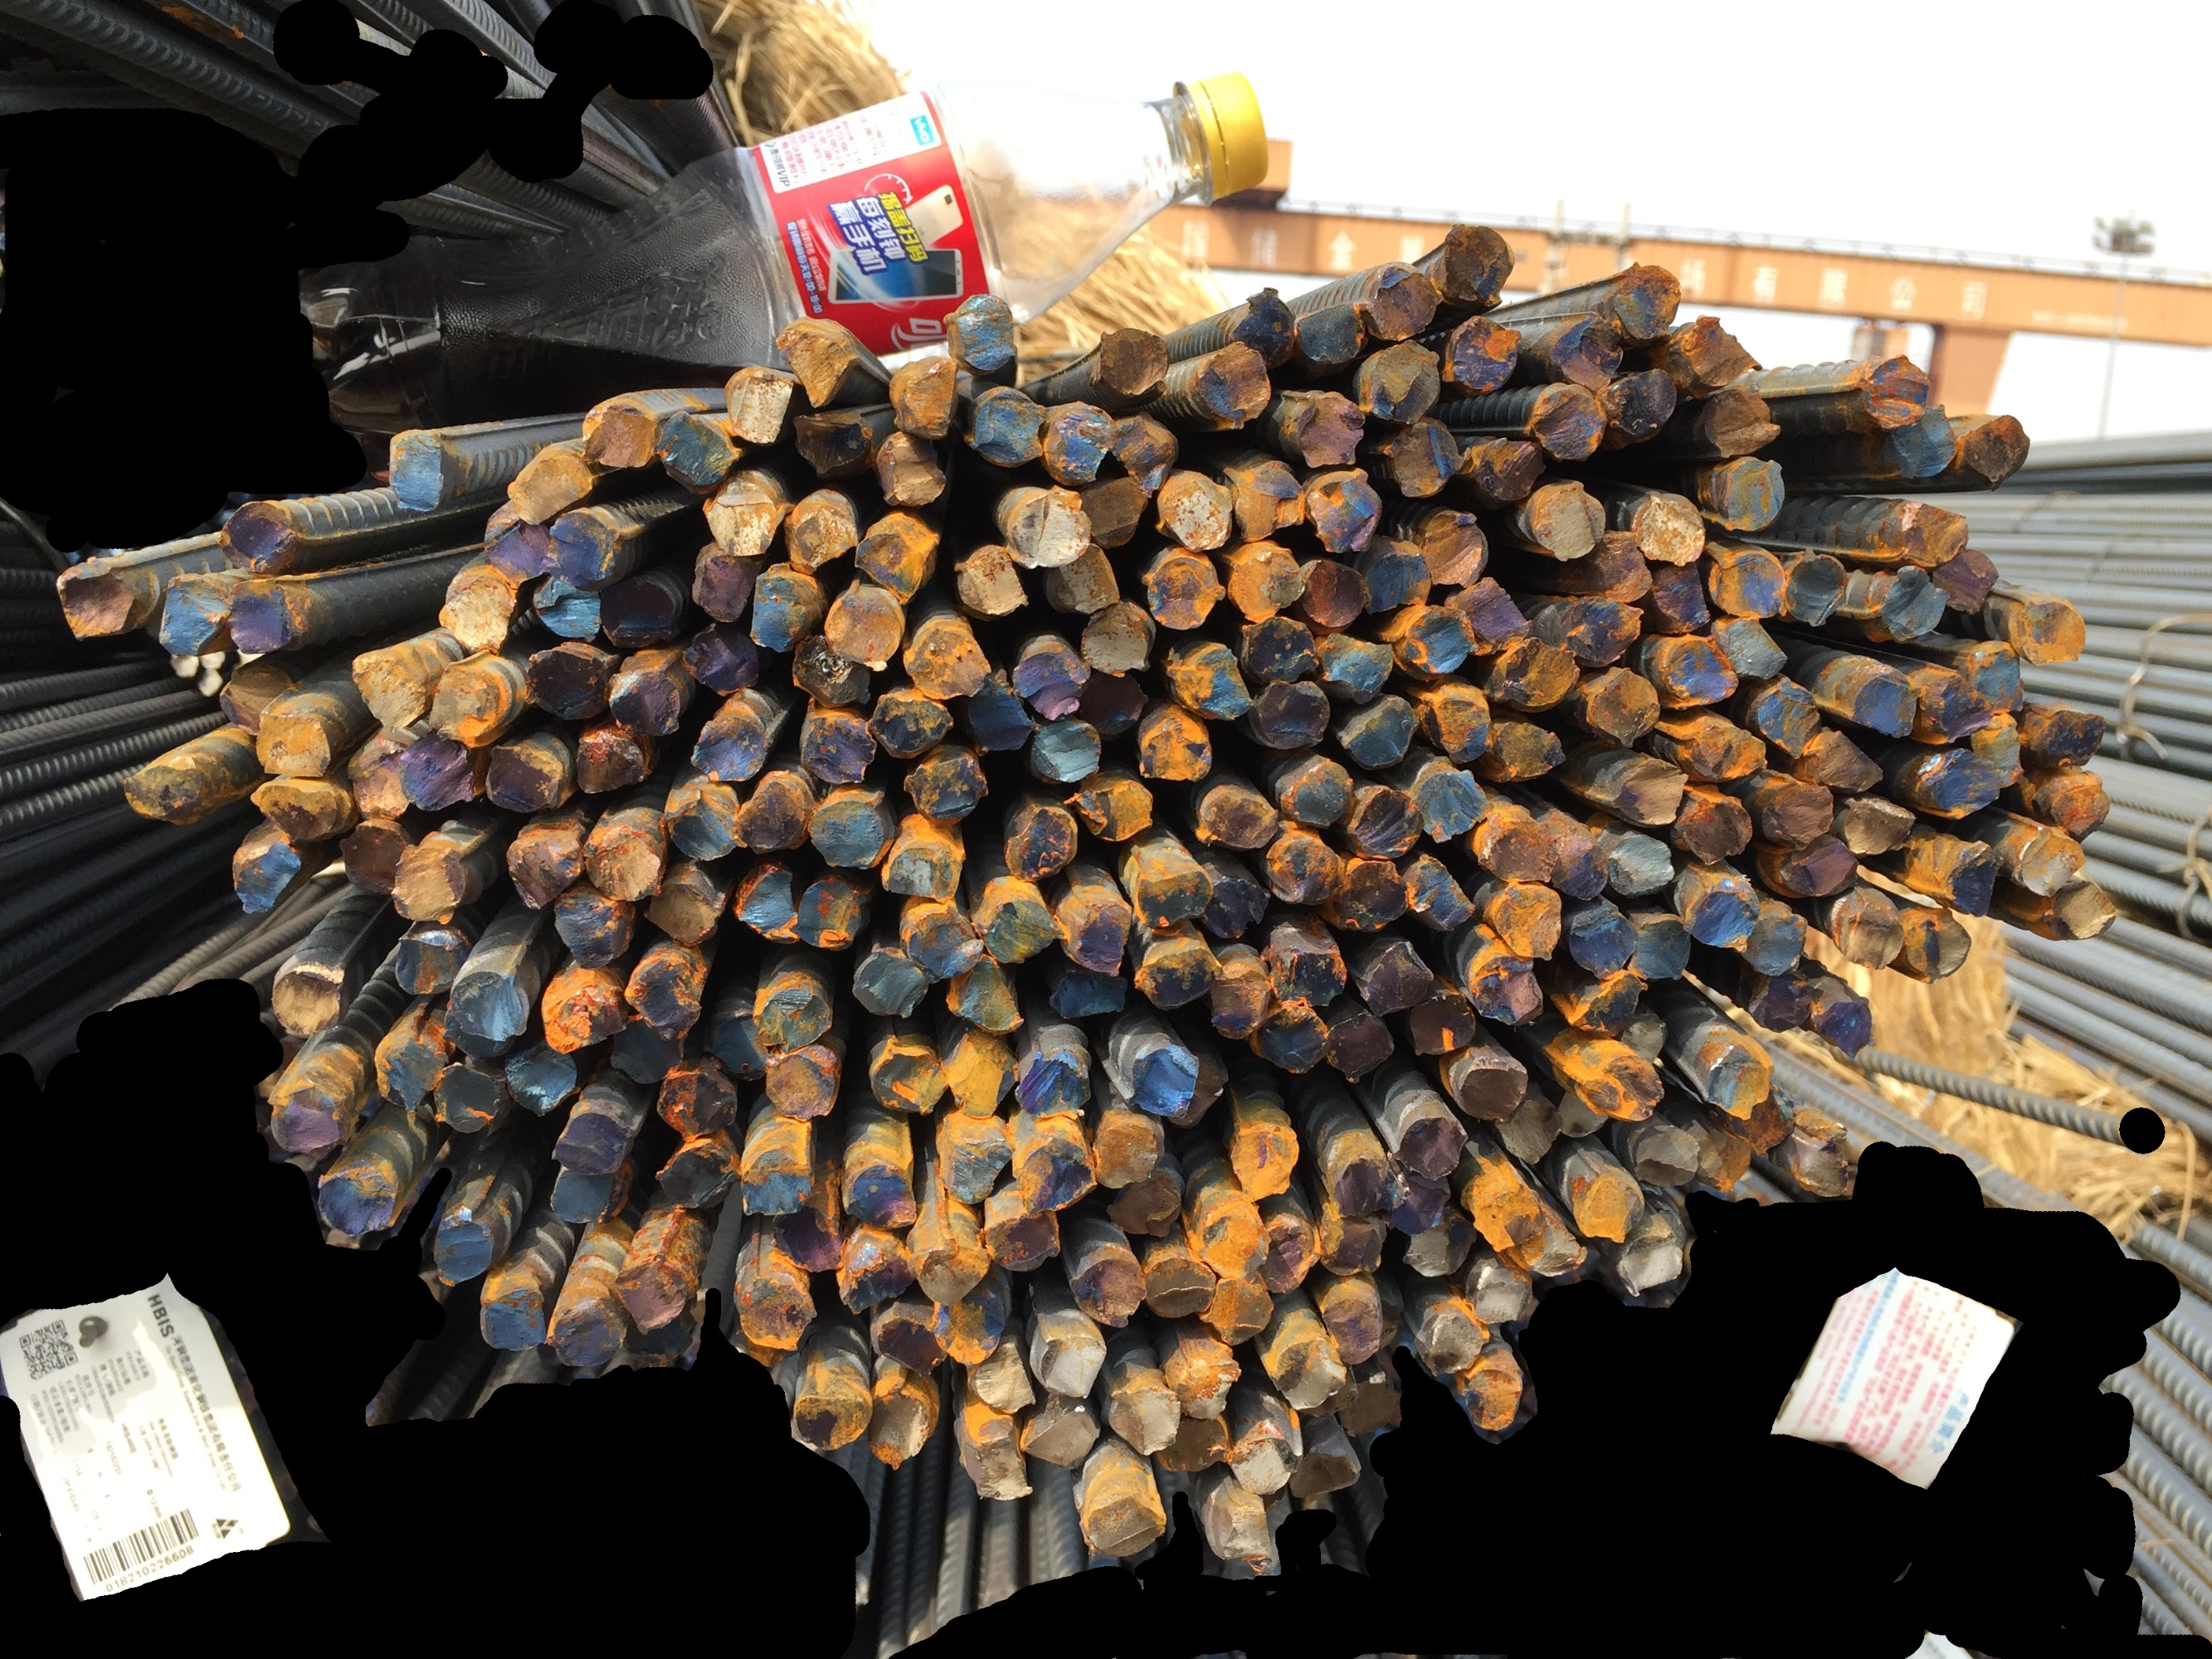rebar: (441, 967, 533, 1063), (52, 559, 152, 645), (852, 511, 940, 605), (702, 469, 795, 556), (1001, 483, 1091, 570), (624, 948, 704, 1046), (506, 441, 598, 525), (654, 404, 737, 497), (776, 315, 859, 408), (823, 580, 906, 673), (389, 840, 478, 925), (539, 969, 628, 1054), (380, 422, 457, 519), (807, 788, 894, 873), (427, 657, 507, 749), (940, 1028, 1020, 1121), (248, 777, 352, 847), (436, 566, 518, 655), (1442, 575, 1530, 657), (781, 484, 861, 575), (1164, 643, 1255, 723), (903, 744, 988, 828), (1358, 340, 1442, 425), (1381, 416, 1466, 500), (1011, 633, 1091, 721), (1192, 342, 1272, 430), (1490, 636, 1581, 714), (736, 1270, 819, 1354), (396, 728, 478, 814), (899, 903, 985, 985), (905, 619, 992, 699), (553, 887, 636, 969), (1462, 1169, 1546, 1251), (1140, 552, 1227, 631), (213, 498, 302, 575), (265, 1080, 356, 1155), (120, 756, 213, 829), (1877, 401, 1959, 483), (966, 385, 1046, 469), (837, 1230, 917, 1314), (945, 953, 1025, 1037), (1339, 692, 1422, 772), (1581, 666, 1661, 749), (1013, 1134, 1098, 1213), (870, 1377, 941, 1469), (349, 648, 429, 730), (502, 829, 584, 910), (1285, 389, 1367, 469), (230, 838, 314, 917), (523, 643, 607, 721), (1658, 633, 1741, 711), (225, 580, 310, 657), (573, 396, 659, 472), (317, 1162, 403, 1239), (943, 293, 1020, 378), (1919, 746, 2005, 823), (960, 667, 1035, 755), (1307, 467, 1382, 554), (1440, 223, 1515, 310), (1677, 314, 1764, 389), (1044, 399, 1117, 488), (1578, 1049, 1666, 1122), (1077, 1486, 1168, 1558), (270, 957, 350, 1037), (539, 507, 619, 587), (1225, 542, 1306, 622), (598, 573, 680, 652), (1529, 479, 1607, 561), (1543, 310, 1625, 389), (373, 1028, 450, 1112), (690, 540, 767, 624), (1363, 260, 1440, 343), (1410, 767, 1494, 843), (885, 354, 960, 439), (155, 570, 228, 657), (1225, 284, 1297, 373), (1558, 969, 1649, 1039), (763, 1044, 842, 1124), (1356, 938, 1435, 1018), (1628, 488, 1708, 566), (1870, 565, 1951, 643), (546, 1291, 628, 1368), (1079, 598, 1156, 680), (797, 709, 879, 786), (1445, 314, 1522, 396), (1131, 945, 1224, 1012), (790, 634, 873, 709), (908, 1232, 992, 1307), (1958, 413, 2032, 497), (725, 359, 795, 448), (654, 1140, 743, 1209), (432, 1060, 511, 1138), (607, 660, 685, 739), (952, 544, 1030, 622), (1529, 383, 1607, 462), (1917, 667, 1996, 746), (1002, 802, 1079, 882), (1156, 474, 1232, 554), (1855, 352, 1931, 432), (504, 1037, 579, 1119), (392, 925, 474, 1000), (868, 1042, 950, 1117), (1265, 1335, 1347, 1410), (1417, 685, 1492, 767), (1394, 605, 1476, 680), (1839, 666, 1921, 741), (253, 708, 336, 781), (432, 1204, 506, 1288), (748, 570, 821, 653), (485, 742, 570, 814), (1103, 1380, 1182, 1457), (1316, 633, 1394, 709), (1067, 1255, 1147, 1330), (1609, 260, 1684, 340), (549, 1110, 640, 1176), (680, 622, 762, 695), (739, 772, 812, 854), (655, 1068, 737, 1141), (1232, 460, 1306, 542), (882, 833, 967, 903), (345, 734, 411, 823), (336, 819, 413, 896), (1569, 1168, 1645, 1244), (1252, 1000, 1330, 1075), (1706, 547, 1787, 620), (1609, 756, 1689, 829), (2008, 826, 2088, 899), (1018, 1399, 1100, 1471), (1466, 953, 1548, 1025), (1703, 1040, 1774, 1122), (976, 899, 1067, 964), (689, 713, 772, 782), (791, 411, 875, 481), (1562, 598, 1645, 667), (870, 692, 955, 760), (1768, 835, 1860, 897), (1112, 410, 1178, 497), (1069, 777, 1156, 843), (2034, 878, 2121, 945), (662, 788, 739, 863), (1044, 540, 1121, 615), (2013, 592, 2088, 669), (216, 664, 295, 737), (584, 828, 662, 901), (1703, 385, 1781, 458), (1712, 455, 1785, 533), (870, 1309, 950, 1380), (1229, 1122, 1300, 1202), (1389, 1108, 1469, 1180), (1933, 838, 2005, 918), (481, 502, 551, 584), (751, 985, 833, 1054), (1569, 899, 1639, 981), (1752, 678, 1822, 760), (734, 861, 800, 946), (959, 1427, 1034, 1502), (1335, 859, 1410, 934), (793, 875, 866, 951), (1034, 1323, 1107, 1399), (940, 1129, 1013, 1206), (1124, 1042, 1198, 1119), (1299, 556, 1372, 633), (1893, 498, 1971, 570), (1490, 884, 1562, 962), (573, 725, 654, 795), (793, 1382, 873, 1452), (849, 948, 929, 1018), (1133, 864, 1213, 934), (1487, 716, 1567, 786), (1733, 908, 1815, 976), (612, 1269, 695, 1335), (1680, 723, 1771, 784), (1098, 328, 1171, 403), (1077, 476, 1150, 551), (933, 1293, 1008, 1366), (842, 1157, 917, 1230), (1199, 1276, 1274, 1349), (1351, 788, 1426, 861), (1604, 366, 1677, 441), (877, 430, 948, 507), (1014, 1051, 1091, 1122), (1400, 1208, 1476, 1279), (1166, 1349, 1245, 1419), (1253, 681, 1332, 751), (1241, 615, 1320, 685), (1419, 509, 1489, 587), (643, 880, 725, 946), (1267, 840, 1349, 906), (1476, 817, 1558, 884), (1196, 786, 1279, 850), (1196, 1206, 1271, 1277), (608, 1014, 685, 1084), (967, 1338, 1037, 1415), (1327, 1007, 1394, 1086), (1682, 884, 1761, 951), (1905, 906, 1973, 985), (1208, 964, 1274, 1044), (1410, 854, 1476, 934), (1785, 544, 1849, 626), (1070, 894, 1133, 978), (1281, 758, 1354, 829), (1614, 1225, 1686, 1298), (770, 1204, 845, 1274), (1142, 1251, 1217, 1321), (1320, 1288, 1384, 1368), (551, 1162, 633, 1225), (1834, 899, 1905, 971), (1682, 793, 1754, 864), (478, 1279, 547, 1352), (532, 570, 601, 643), (1027, 716, 1102, 784), (1415, 1302, 1483, 1377), (1107, 1173, 1184, 1239), (1255, 1220, 1321, 1297), (1586, 528, 1652, 605), (1095, 1119, 1164, 1190), (741, 1148, 814, 1216), (1455, 1054, 1529, 1122), (702, 1007, 769, 1082), (1809, 727, 1884, 793), (1166, 1053, 1229, 1131), (1328, 1154, 1407, 1216), (1837, 795, 1917, 856), (1203, 870, 1272, 939), (1930, 547, 1999, 617), (1138, 714, 1211, 781), (1211, 1500, 1278, 1574), (1724, 1089, 1797, 1155), (1762, 781, 1835, 847), (1229, 1432, 1304, 1497), (983, 1213, 1062, 1274), (1792, 1119, 1853, 1197), (2039, 775, 2118, 836), (1494, 1098, 1562, 1168), (1297, 300, 1368, 366), (1407, 992, 1478, 1058), (1963, 640, 2029, 711), (1475, 437, 1548, 502), (1715, 615, 1788, 680), (1044, 967, 1131, 1021), (2029, 709, 2107, 769), (1607, 831, 1675, 899), (1079, 671, 1149, 737), (1382, 1171, 1452, 1237), (1649, 561, 1713, 633), (1156, 1413, 1232, 1473), (1318, 1213, 1386, 1279), (1363, 549, 1431, 615), (1745, 972, 1815, 1037), (1272, 946, 1347, 1006), (1469, 1262, 1536, 1328), (1626, 915, 1693, 981), (1968, 711, 2027, 784), (1811, 993, 1876, 1060), (1462, 1364, 1525, 1432), (1548, 831, 1609, 901), (1633, 1124, 1700, 1187), (1339, 1373, 1400, 1441), (1522, 1216, 1590, 1277), (621, 1309, 695, 1363), (1288, 1450, 1365, 1502), (1694, 1126, 1752, 1192), (1297, 1368, 1360, 1419), (1557, 1089, 1609, 1140), (1618, 1011, 1668, 1063), (1375, 1291, 1403, 1356)
